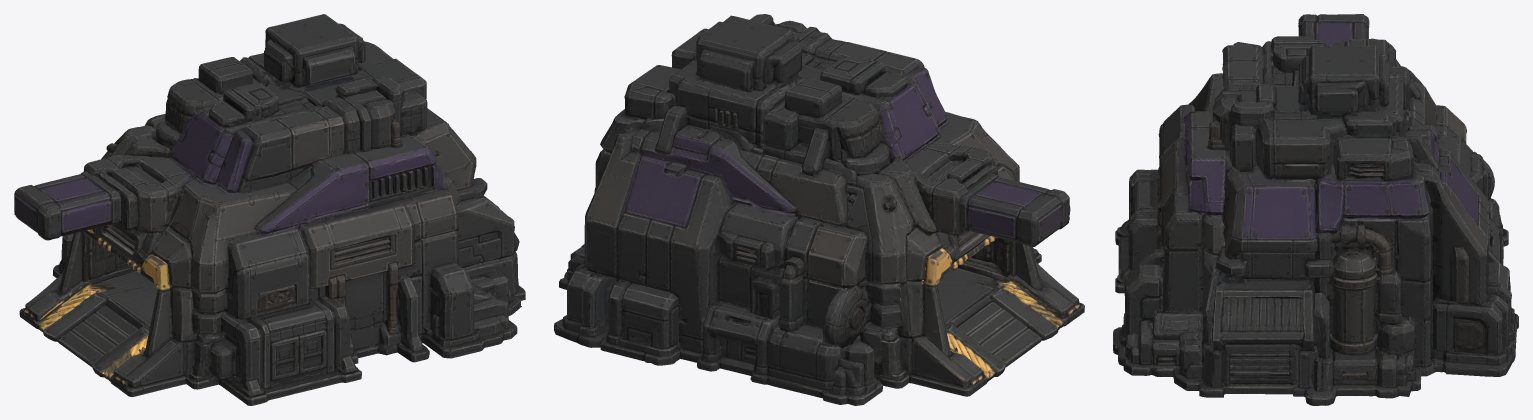
Rendered from foundry.glb.
The picture shows the model from 3 angles, left to right: view 1: azimuth 30°, elevation 25°; view 2: azimuth 150°, elevation 25°; view 3: azimuth 270°, elevation 25°; orthographic projection. The views are drawn at different scales.
Visible parts, largest first — view 1: output; view 2: output; view 3: output.
Boxes of the visible parts, x1,y1,x2,y2 form: output: (14, 14, 525, 405); output: (554, 14, 1084, 405); output: (1113, 14, 1518, 405).
Bounding box in the file's own units: 2 × 1.07 × 1.49.
1 material, 1 textured.
